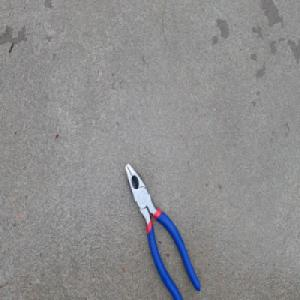Pliers: (123, 161, 201, 300)
